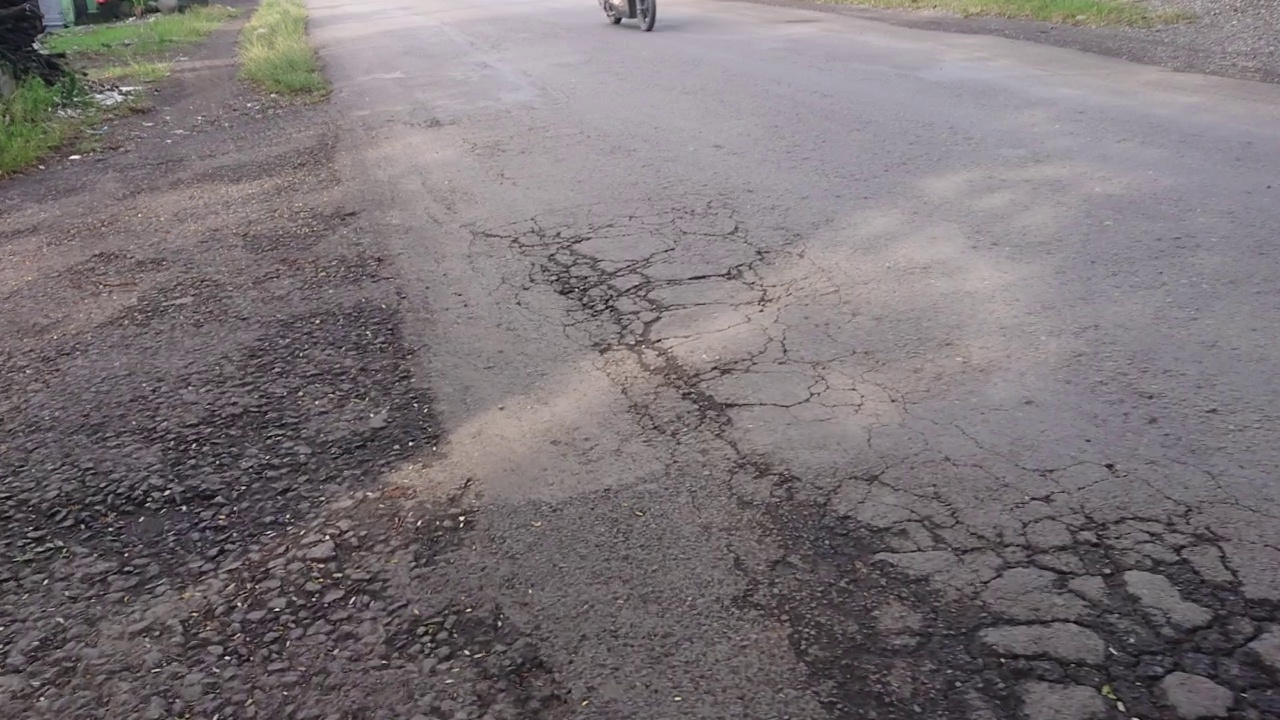Retak: (800, 463, 1280, 720), (514, 231, 816, 473)
